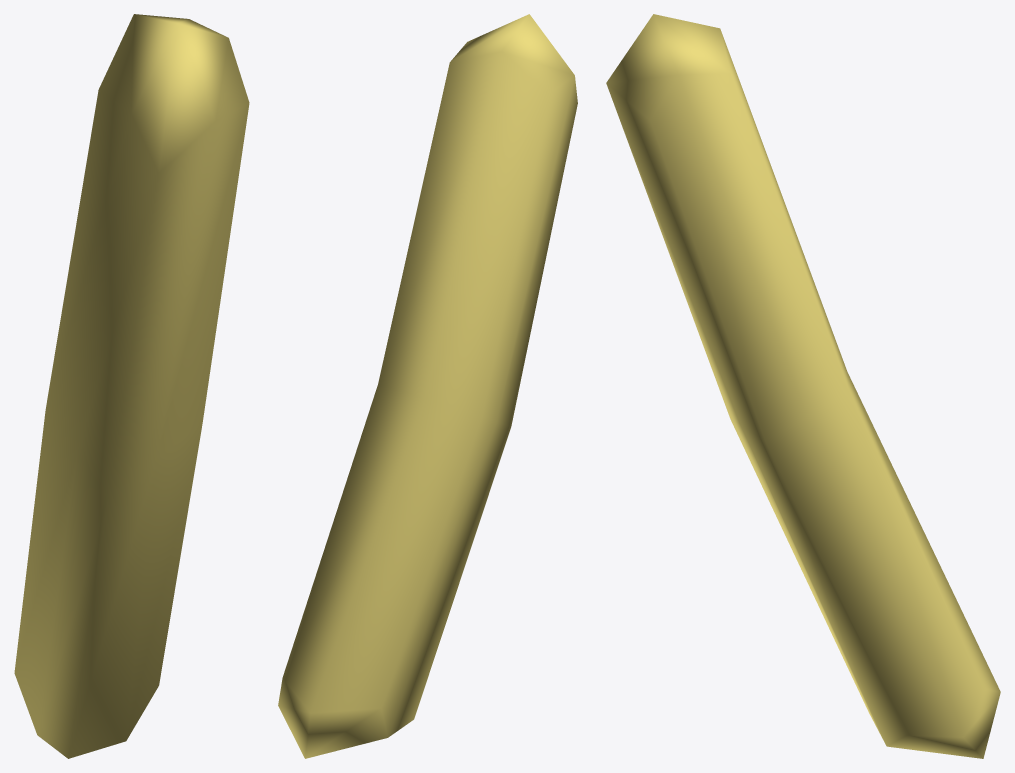
File: nucleus-ambiguus-r.glb
3 views of the same model, side by side, from view 1: azimuth 30°, elevation 25°; view 2: azimuth 150°, elevation 25°; view 3: azimuth 270°, elevation 25° (orthographic). The views are drawn at different scales.
Visible parts, largest first — view 1: Nucleus ambiguus.r; view 2: Nucleus ambiguus.r; view 3: Nucleus ambiguus.r.
Part boxes in pixels (x1=…): Nucleus ambiguus.r: x1=14, y1=14, x2=249, y2=758; Nucleus ambiguus.r: x1=278, y1=14, x2=577, y2=758; Nucleus ambiguus.r: x1=606, y1=14, x2=1000, y2=758.
Size of the model in its own units: 0.00174 by 0.00726 by 0.00368.
